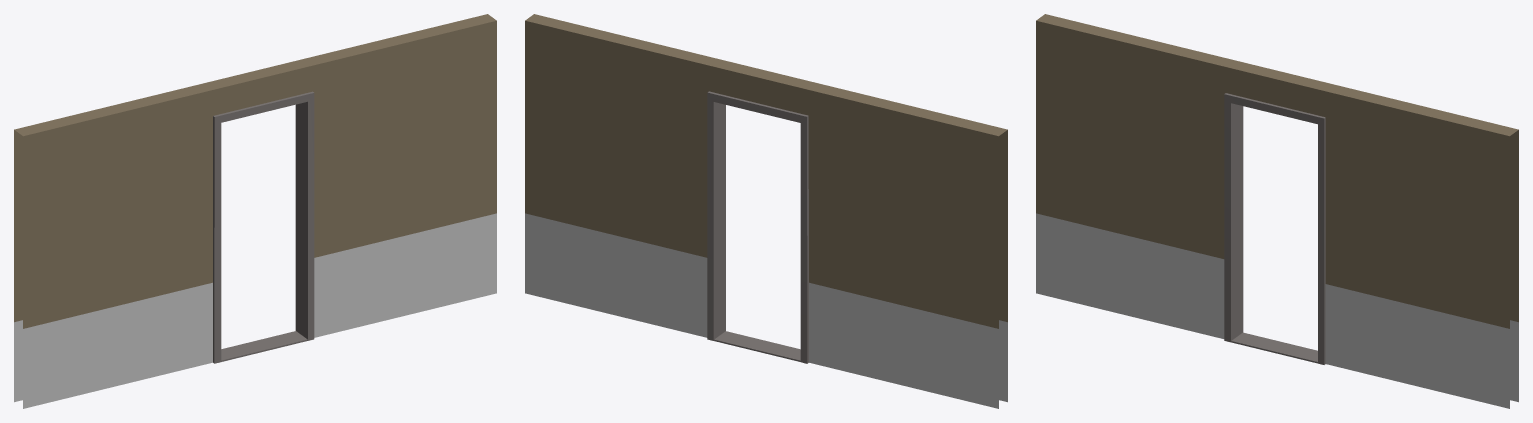
The model's file is SM_DoorFrame_A1_600.FBX.
The picture shows the model from 3 angles, left to right: view 1: azimuth 30°, elevation 25°; view 2: azimuth 150°, elevation 25°; view 3: azimuth 330°, elevation 25°; orthographic projection.
Parts seen in each view (by area): view 1: SM_DoorFrame_A1_600; view 2: SM_DoorFrame_A1_600; view 3: SM_DoorFrame_A1_600.
Part boxes in pixels (x1=…): SM_DoorFrame_A1_600: x1=14, y1=14, x2=496, y2=408; SM_DoorFrame_A1_600: x1=525, y1=14, x2=1007, y2=408; SM_DoorFrame_A1_600: x1=1036, y1=14, x2=1518, y2=408.
Size of the model in its own units: 600 by 27.36 by 330.
